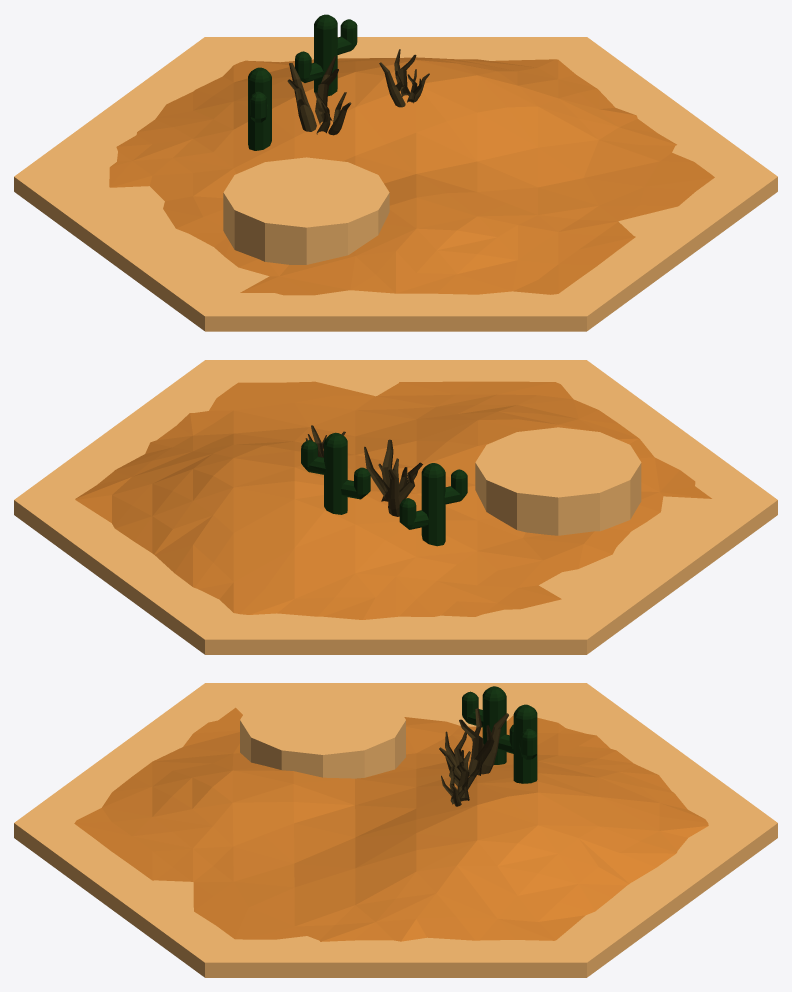
File: desert.obj
The picture shows the model from 3 angles, top to bottom: view 1: azimuth 30°, elevation 25°; view 2: azimuth 150°, elevation 25°; view 3: azimuth 270°, elevation 25°; orthographic projection.
Visible parts, largest first — view 1: DessertCombined_Cylinder.002; view 2: DessertCombined_Cylinder.002; view 3: DessertCombined_Cylinder.002.
Part boxes in pixels (left/top/right/bottom): DessertCombined_Cylinder.002: left=14, top=14, right=777, bottom=331; DessertCombined_Cylinder.002: left=14, top=360, right=777, bottom=654; DessertCombined_Cylinder.002: left=14, top=683, right=777, bottom=977.
Bounding box in the file's own units: 3.98 × 0.8583 × 4.6.
